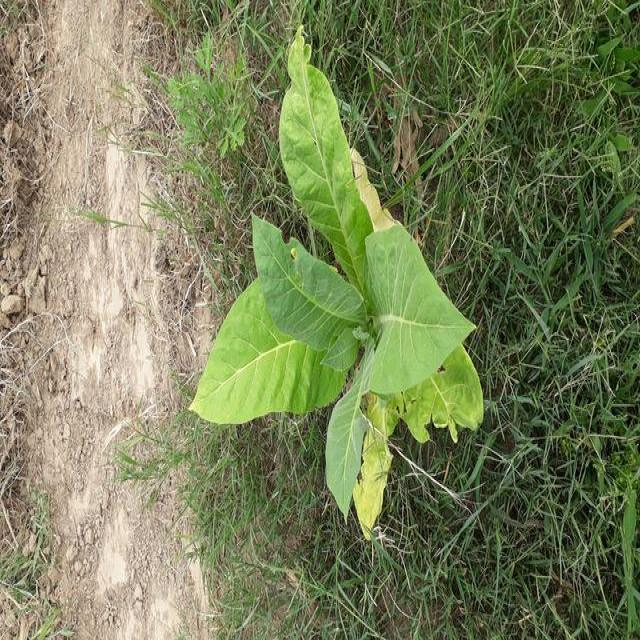crop: (202, 31, 480, 520)
